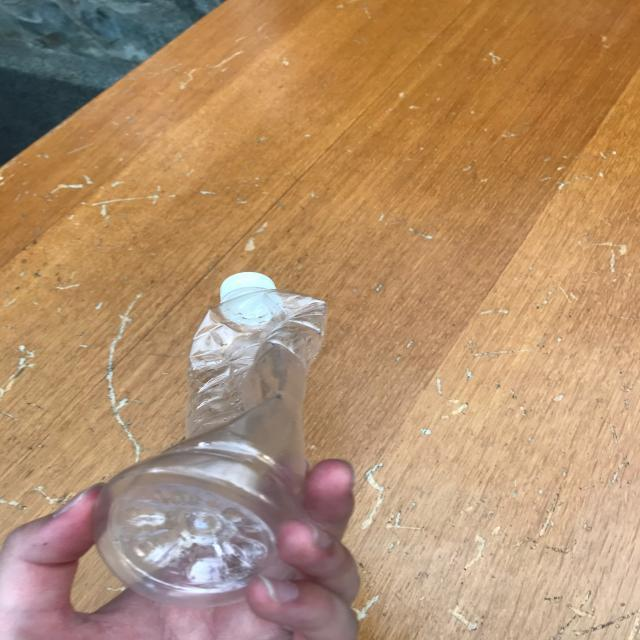plastic_bottle: (92, 272, 329, 608)
